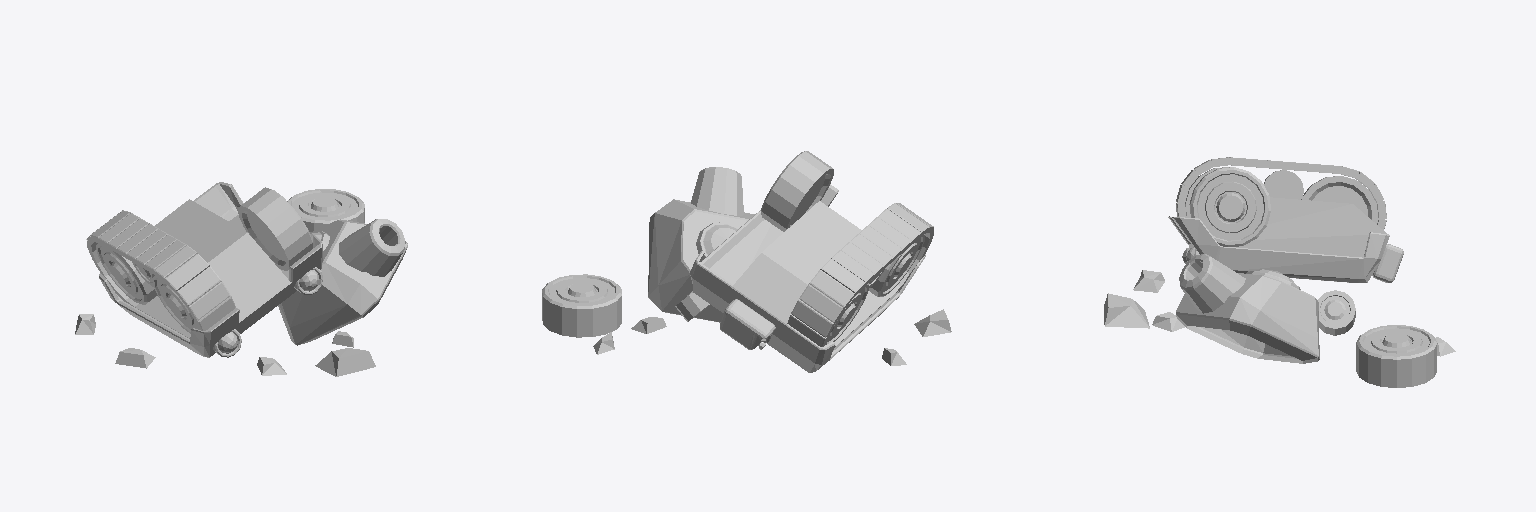
File: busted_tank.obj
The picture shows the model from 3 angles: view 1: azimuth 30°, elevation 25°; view 2: azimuth 150°, elevation 25°; view 3: azimuth 270°, elevation 25°; orthographic projection.
Visible parts, largest first — view 1: BustedTank_Untitled.001; view 2: BustedTank_Untitled.001; view 3: BustedTank_Untitled.001.
Part boxes in pixels (bbox=[...]): BustedTank_Untitled.001: bbox=[75, 182, 407, 376]; BustedTank_Untitled.001: bbox=[542, 151, 951, 372]; BustedTank_Untitled.001: bbox=[1104, 157, 1455, 387].
Size of the model in its own units: 4.06 by 2.04 by 3.82.